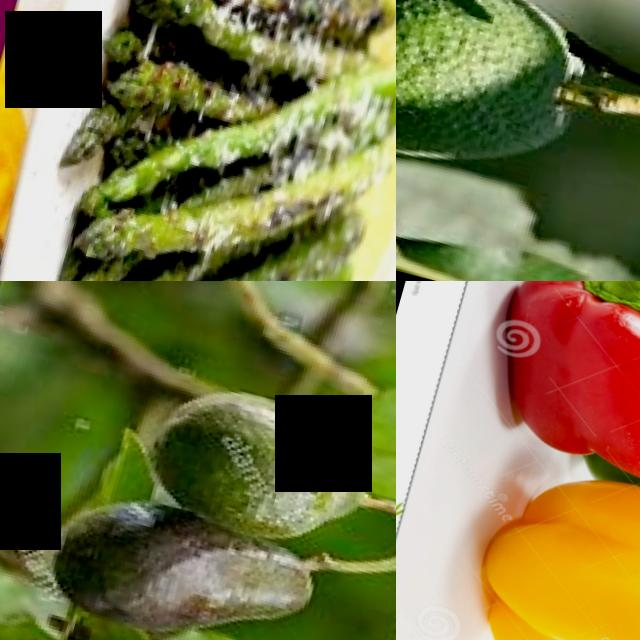asparagus: (91, 112, 277, 239), (67, 185, 285, 281), (97, 31, 243, 144), (127, 0, 292, 68)
avocado: (114, 357, 392, 570), (11, 477, 334, 640), (396, 0, 636, 214)
bell pepper: (471, 281, 640, 501), (449, 459, 640, 640)
